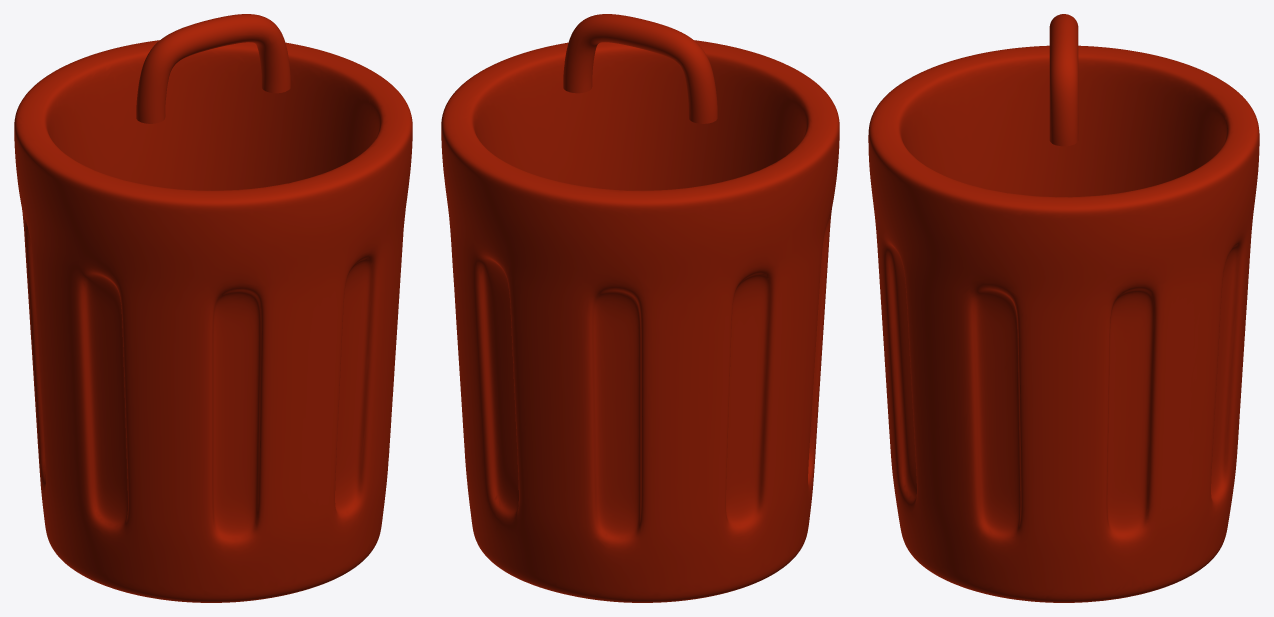
Rendered from trash-can.glb.
3 renders of one model, left to right at view 1: azimuth 30°, elevation 25°; view 2: azimuth 150°, elevation 25°; view 3: azimuth 270°, elevation 25°, orthographic.
Parts seen in each view (by area): view 1: Ttash Bin; view 2: Ttash Bin; view 3: Ttash Bin.
Boxes of the visible parts, bbox=[...] form: Ttash Bin: bbox=[14, 14, 412, 602]; Ttash Bin: bbox=[441, 14, 839, 602]; Ttash Bin: bbox=[868, 14, 1259, 602].
Size of the model in its own units: 1.32 by 1.9 by 1.32.
